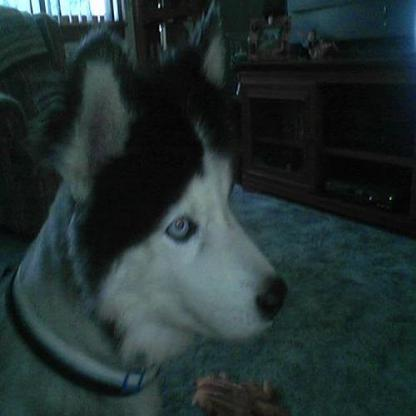Eskimo_dog: (0, 3, 288, 413)
